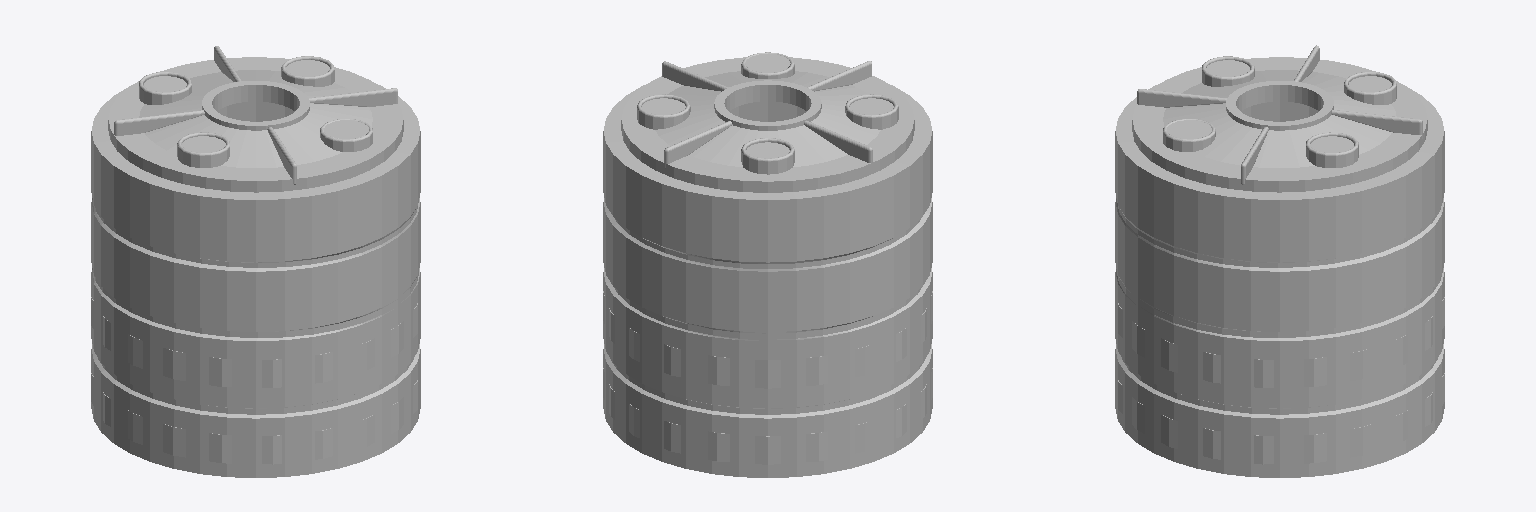
Rendered from plastic_drum_yellow.obj.
3 renders of one model, left to right at view 1: azimuth 30°, elevation 25°; view 2: azimuth 150°, elevation 25°; view 3: azimuth 270°, elevation 25°, orthographic.
Visible parts, largest first — view 1: __, __.1, ___, ___.1, ___.3; view 2: __, __.1, ___.2, ___, ___.1, ___.3; view 3: __, __.1, ___.2, ___.3.
Part boxes in pixels (x1,y1,x2,y2): __: (91,56,420,477); __.1: (91,373,417,464); ___: (114,110,204,135); ___.1: (309,88,397,106); ___.3: (267,127,296,184); __: (603,52,932,477); __.1: (603,368,932,464); ___.2: (664,121,732,168); ___: (804,120,872,162); ___.1: (662,61,728,91); ___.3: (807,61,871,91); __: (1115,56,1444,477); __.1: (1118,373,1444,464); ___.2: (1331,110,1422,138); ___.3: (1137,89,1226,107).
Bounding box in the file's own units: 137 × 140 × 137.